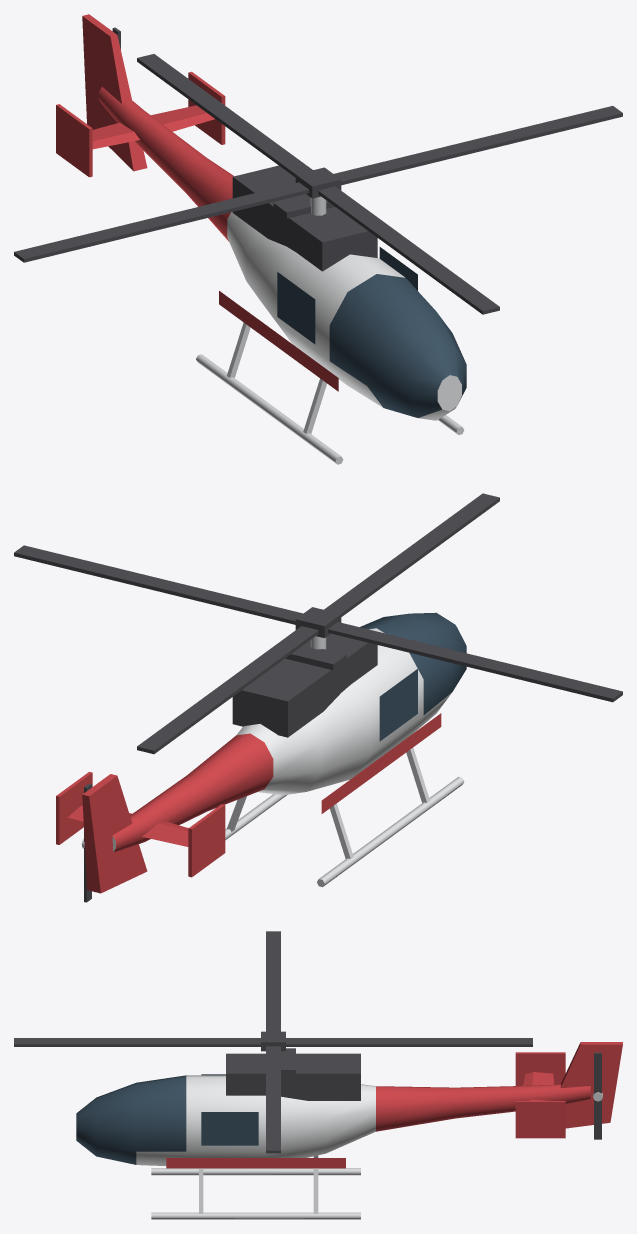
The model's file is ambient_helicopter.fbx.
3 views of the same model, one above another, from view 1: azimuth 30°, elevation 25°; view 2: azimuth 150°, elevation 25°; view 3: azimuth 270°, elevation 25° (orthographic). The views are drawn at different scales.
Parts seen in each view (by area): view 1: ambient_helicopter; view 2: ambient_helicopter; view 3: ambient_helicopter.
Part boxes in pixels (<box>): ambient_helicopter: <box>14,14,622,464</box>; ambient_helicopter: <box>14,493,622,902</box>; ambient_helicopter: <box>14,931,622,1219</box>.
Bounding box in the file's own units: 10.4 × 3.53 × 12.2.
